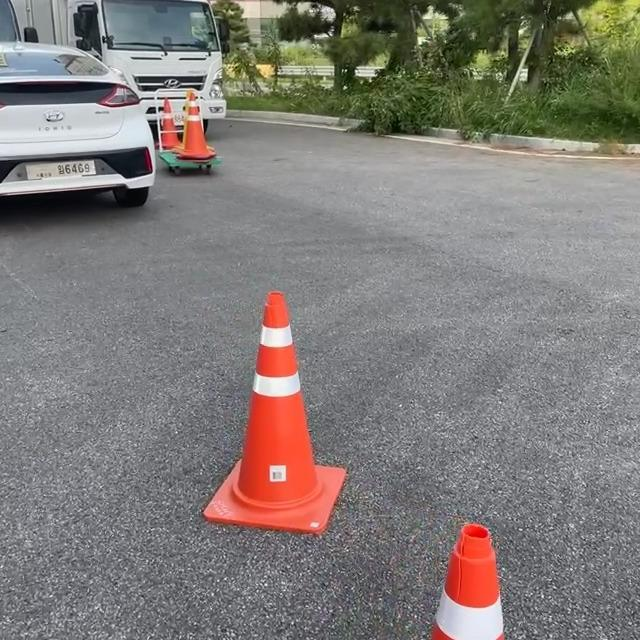fallen_object: (193, 279, 354, 538), (415, 487, 526, 640), (140, 92, 219, 171)
